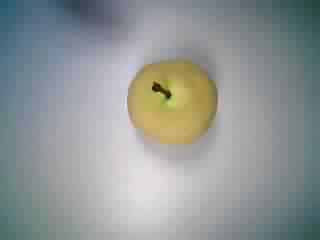pear: (119, 50, 225, 157)
